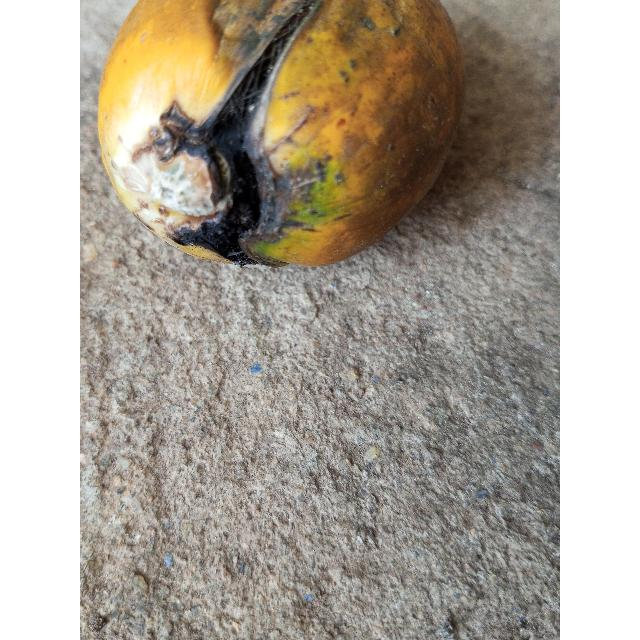damaged: (97, 0, 465, 270)
